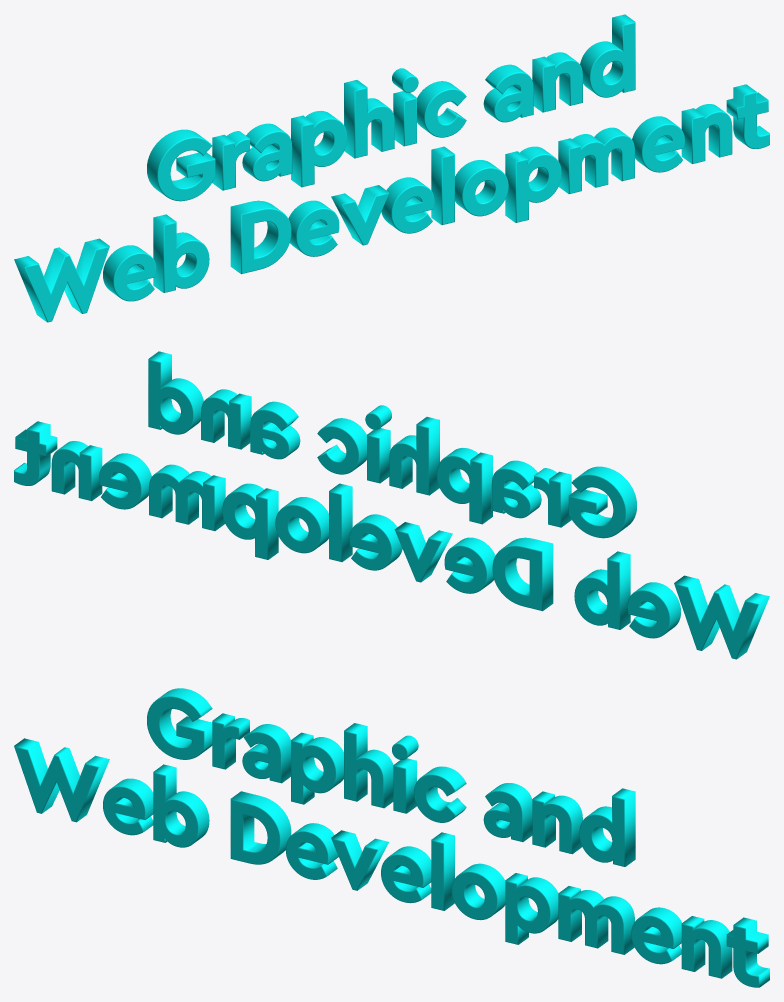
3 renders of one model, top to bottom at view 1: azimuth 30°, elevation 25°; view 2: azimuth 150°, elevation 25°; view 3: azimuth 330°, elevation 25°, orthographic.
Parts seen in each view (by area): view 1: Text; view 2: Text; view 3: Text.
Boxes of the visible parts, box(x1,y1,x2,y2) form: Text: box(14, 14, 769, 322); Text: box(14, 351, 769, 659); Text: box(14, 688, 769, 987).
Size of the model in its own units: 20.59 by 4.56 by 0.5319.
